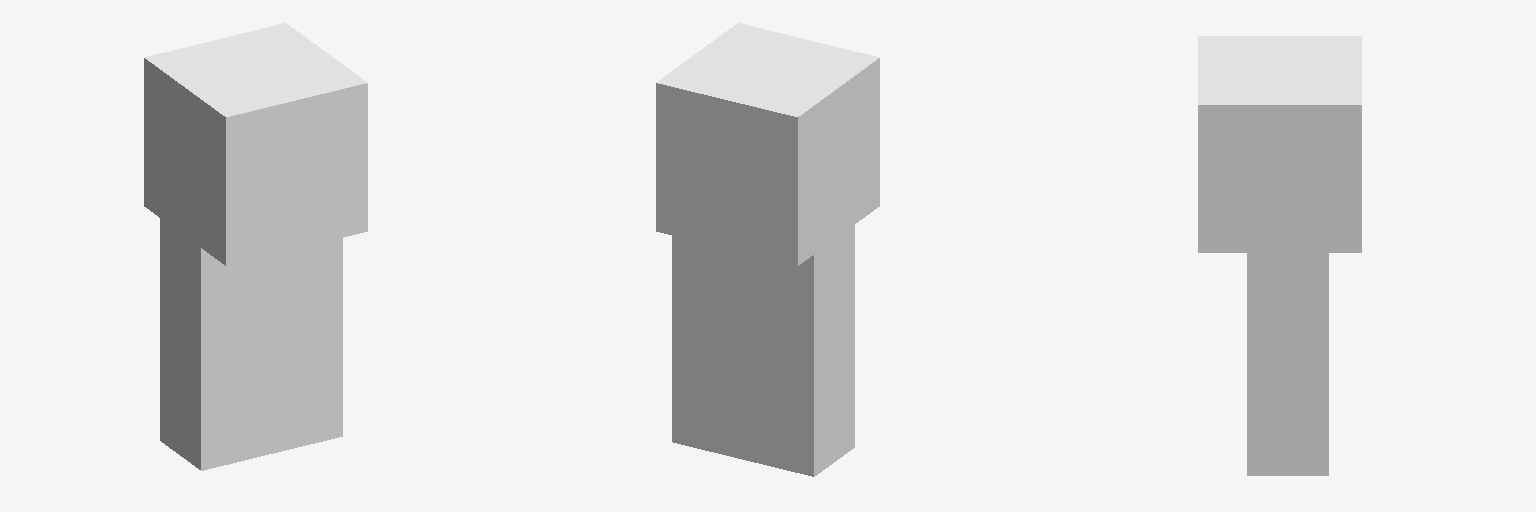
File: Mob-1.obj
3 views of the same model, side by side, from view 1: azimuth 30°, elevation 25°; view 2: azimuth 150°, elevation 25°; view 3: azimuth 270°, elevation 25° (orthographic).
Visible parts, largest first — view 1: object 1; view 2: object 1; view 3: object 1.
Part boxes in pixels (left/top/right/bottom): object 1: left=144, top=23, right=367, bottom=470; object 1: left=656, top=23, right=879, bottom=476; object 1: left=1198, top=36, right=1361, bottom=475.
Bounding box in the file's own units: 1 × 2.5 × 1.